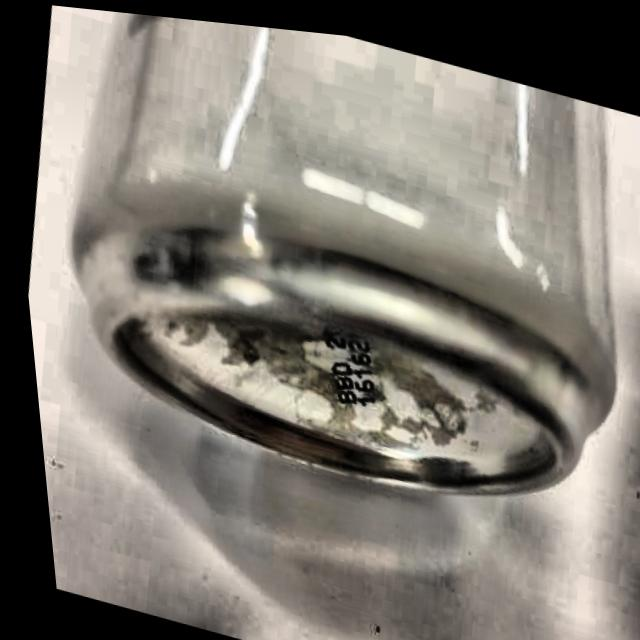Cans: (0, 0, 640, 583)
